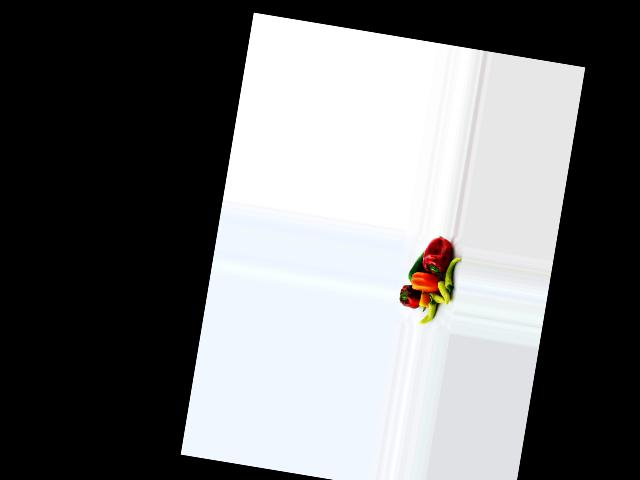bell_pepper: (442, 253, 461, 296)
